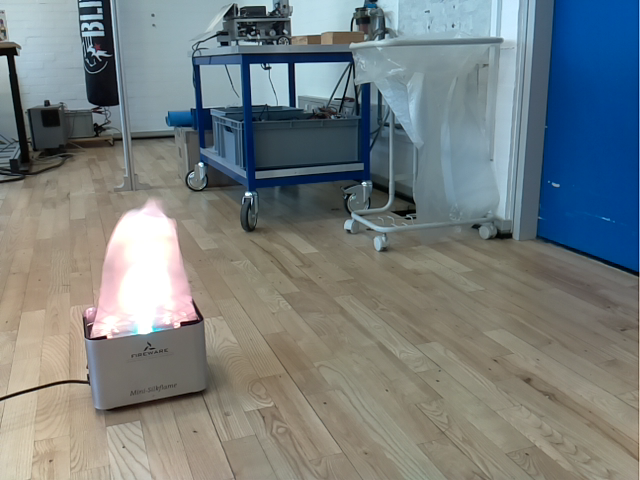fire: (88, 196, 199, 338)
